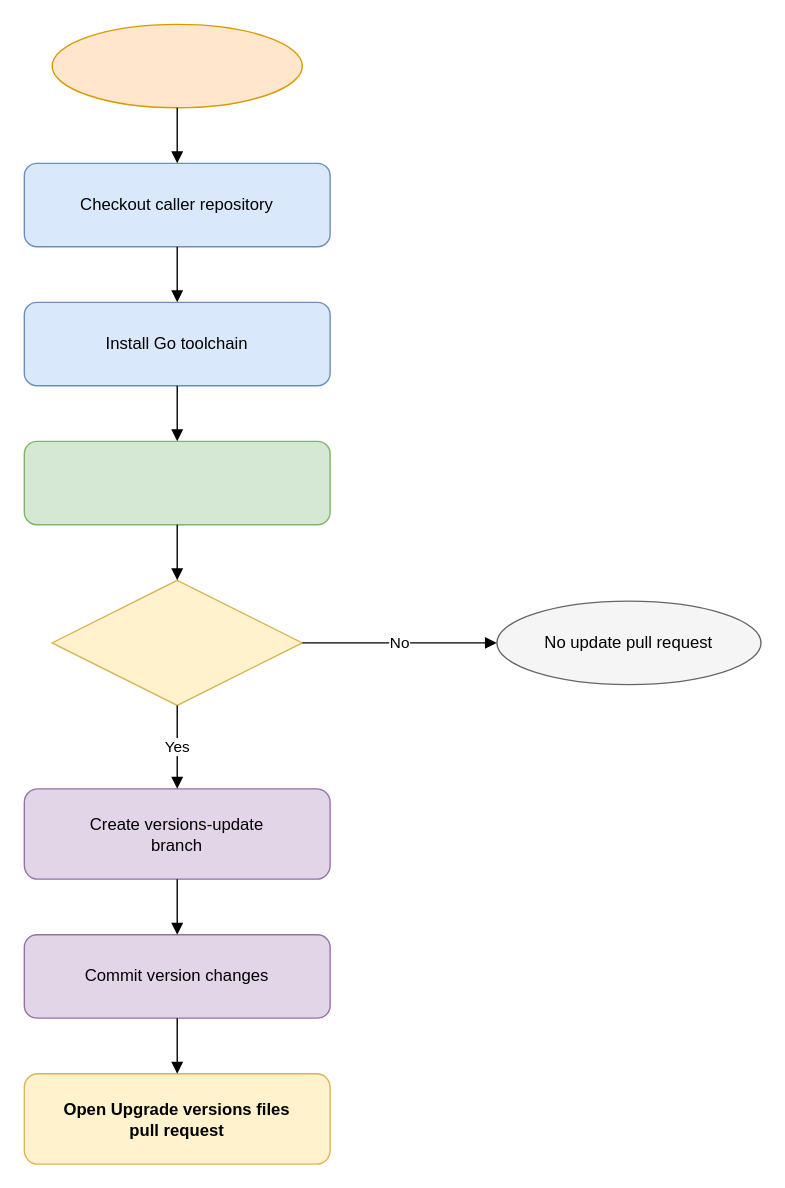
Image size: 785x1188. Some labels were removed from this diagram. The centre of each missing label's shape, as x and y in pixels:
Friday schedule or manual dispatch: pixel 176 65
Managed files changed?: pixel 176 642
Run ci/update_versions.sh: pixel 176 482
